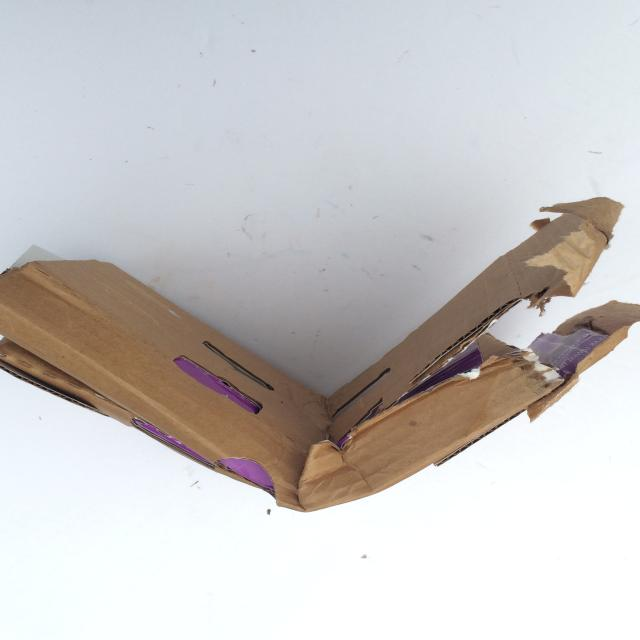cardboard: (0, 195, 638, 512)
